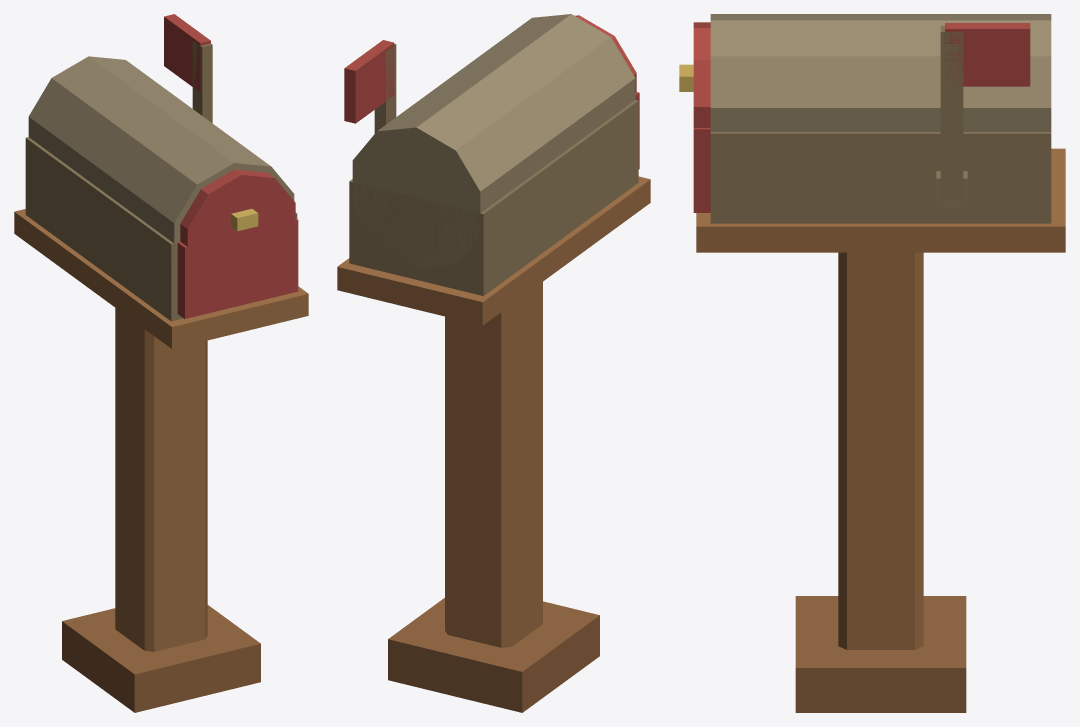
Rendered from ranch_mailbox.fbx.
3 renders of one model, left to right at view 1: azimuth 30°, elevation 25°; view 2: azimuth 150°, elevation 25°; view 3: azimuth 270°, elevation 25°, orthographic. The views are drawn at different scales.
Visible parts, largest first — view 1: ranch_mailbox; view 2: ranch_mailbox; view 3: ranch_mailbox.
Part boxes in pixels (x1=…): ranch_mailbox: x1=14, y1=14, x2=308, y2=712; ranch_mailbox: x1=337, y1=14, x2=650, y2=712; ranch_mailbox: x1=679, y1=14, x2=1065, y2=712.
Bounding box in the file's own units: 1.38 × 5.38 × 2.72.
